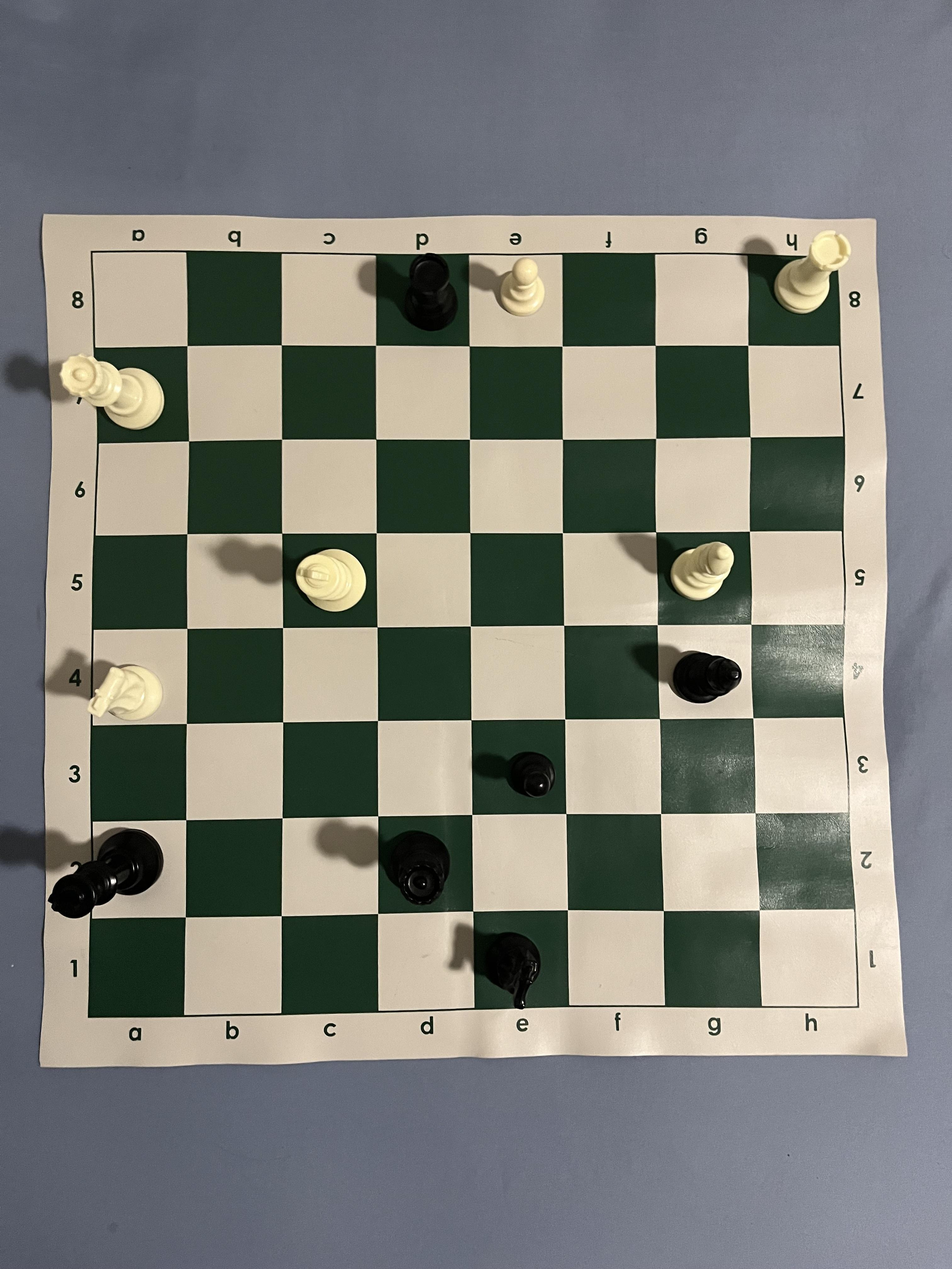black_bishop: (672, 650, 743, 705)
black_king: (47, 828, 165, 920)
black_knight: (478, 931, 543, 1010)
black_pawn: (506, 750, 556, 799)
black_queen: (384, 830, 451, 907)
black_rook: (401, 253, 459, 332)
white_bishop: (669, 540, 736, 602)
white_king: (296, 548, 368, 613)
white_knight: (87, 664, 164, 723)
white_pawn: (499, 257, 546, 318)
white_queen: (58, 353, 166, 432)
white_rook: (774, 229, 853, 315)
